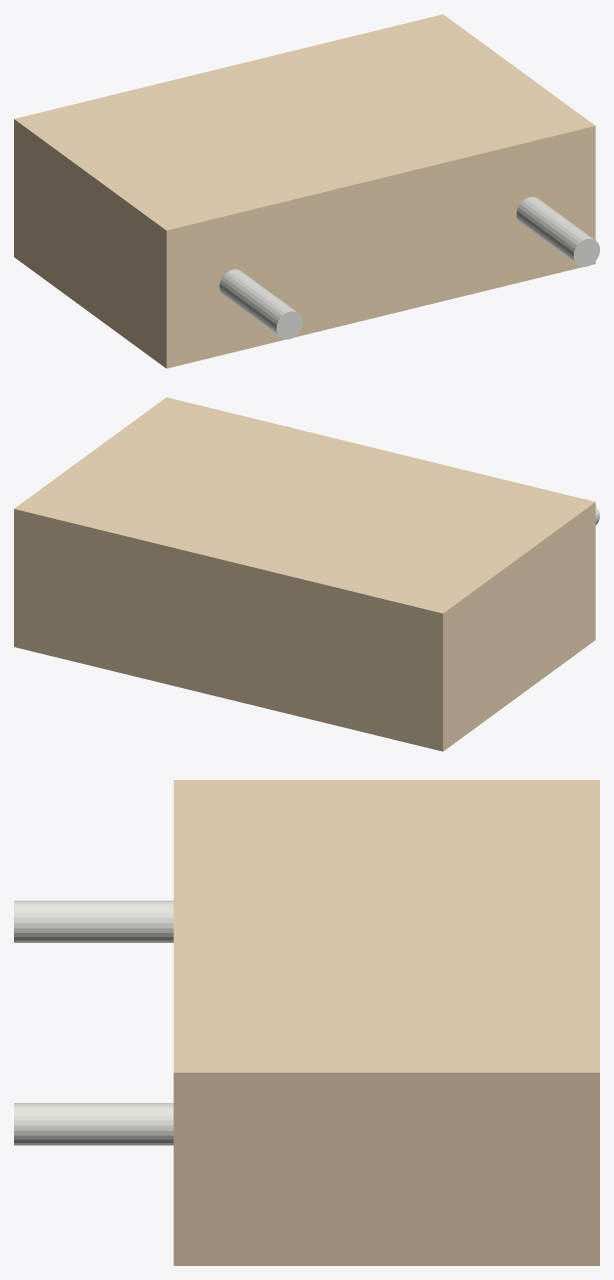
3 renders of one model, top to bottom at view 1: azimuth 30°, elevation 25°; view 2: azimuth 150°, elevation 25°; view 3: azimuth 270°, elevation 25°, orthographic. The views are drawn at different scales.
Visible parts, largest first — view 1: Shape_IndexedFaceSet.005, Shape_IndexedFaceSet.002, Shape_IndexedFaceSet.004, Shape_IndexedFaceSet.006, Shape_IndexedFaceSet.007, Shape_IndexedFaceSet.008, Shape_IndexedFaceSet.009; view 2: Shape_IndexedFaceSet.005, Shape_IndexedFaceSet.001, Shape_IndexedFaceSet.004; view 3: Shape_IndexedFaceSet.005, Shape_IndexedFaceSet.003, Shape_IndexedFaceSet.006, Shape_IndexedFaceSet.007.
Boxes of the visible parts, x1=… form: Shape_IndexedFaceSet.005: x1=14, y1=14, x2=595, y2=230; Shape_IndexedFaceSet.002: x1=166, y1=126, x2=595, y2=368; Shape_IndexedFaceSet.004: x1=14, y1=119, x2=166, y2=368; Shape_IndexedFaceSet.006: x1=219, y1=269, x2=296, y2=336; Shape_IndexedFaceSet.007: x1=516, y1=197, x2=594, y2=263; Shape_IndexedFaceSet.008: x1=276, y1=311, x2=302, y2=339; Shape_IndexedFaceSet.009: x1=573, y1=238, x2=599, y2=266; Shape_IndexedFaceSet.005: x1=14, y1=397, x2=594, y2=613; Shape_IndexedFaceSet.001: x1=14, y1=509, x2=442, y2=751; Shape_IndexedFaceSet.004: x1=443, y1=502, x2=595, y2=751; Shape_IndexedFaceSet.005: x1=173, y1=780, x2=599, y2=1072; Shape_IndexedFaceSet.003: x1=173, y1=1072, x2=599, y2=1265; Shape_IndexedFaceSet.006: x1=14, y1=900, x2=173, y2=942; Shape_IndexedFaceSet.007: x1=14, y1=1103, x2=173, y2=1145.
Bounding box in the file's own units: 5.12 × 1.57 × 4.33.
